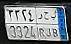B: (51, 14, 58, 39)
J: (43, 11, 51, 38)
